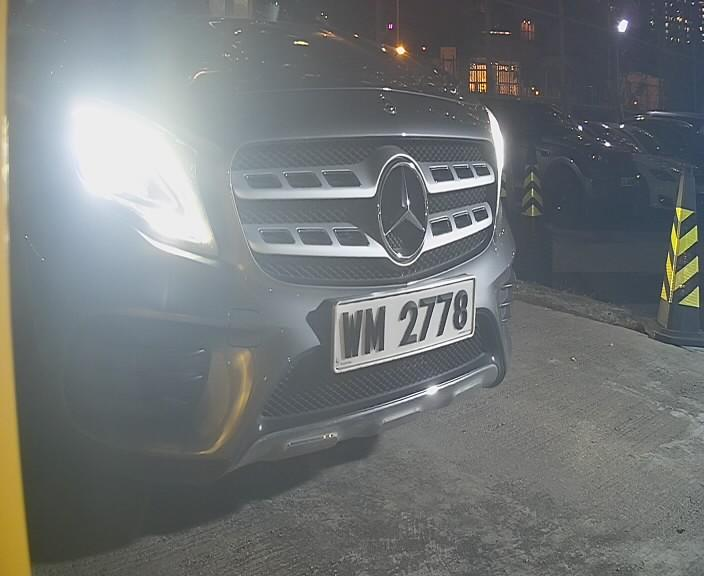License Plate: (316, 268, 491, 389)
